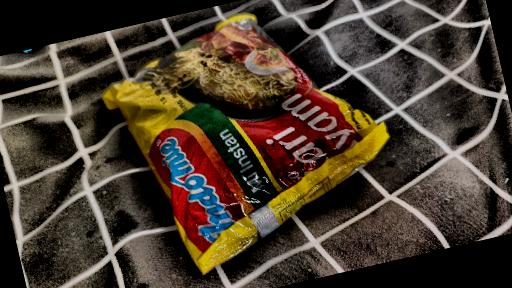indomie: (97, 1, 404, 282)
